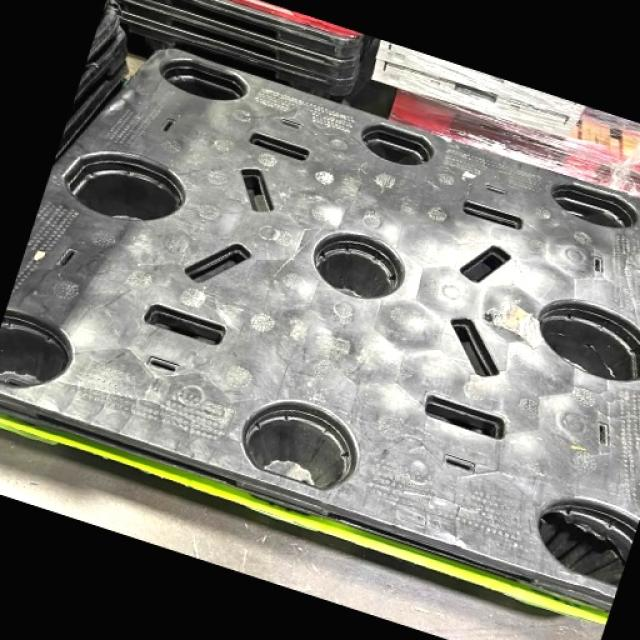non-igps: (0, 41, 639, 630), (110, 12, 364, 108), (110, 0, 366, 82), (149, 0, 366, 64), (48, 58, 133, 166), (64, 20, 134, 116), (83, 0, 127, 73)
